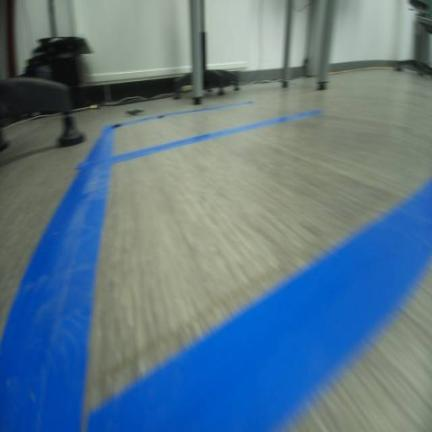place: (0, 110, 431, 431), (78, 100, 325, 167)
